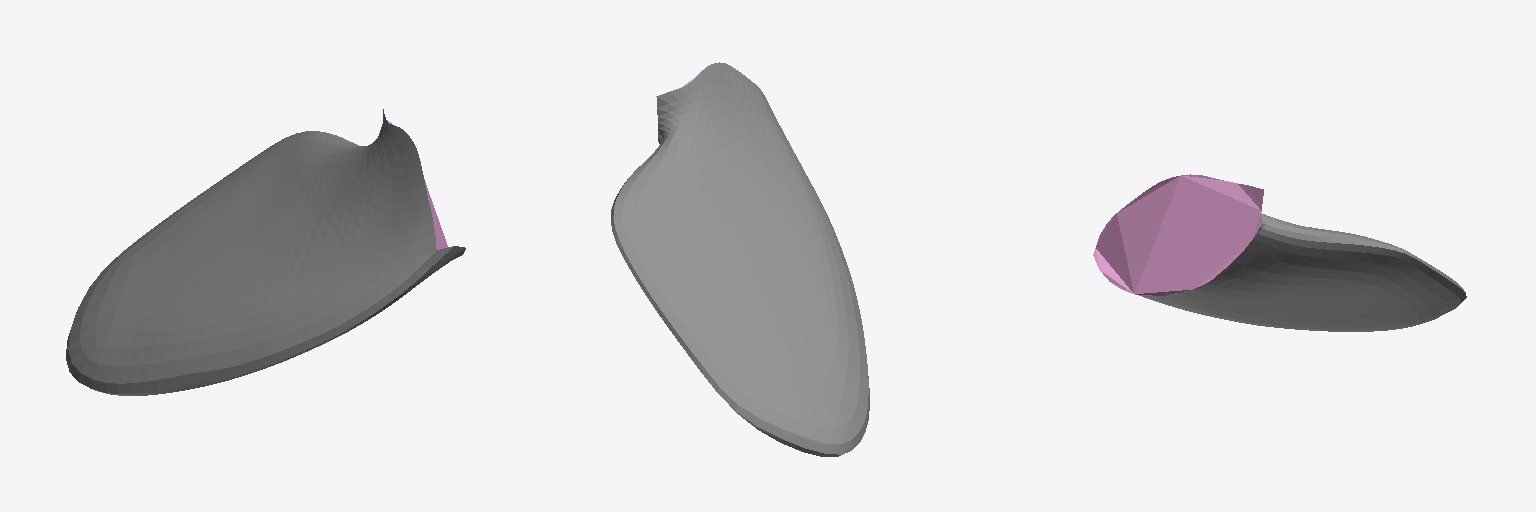
Rendered from AletaDerOrca.obj.
3 views of the same model, side by side, from view 1: azimuth 30°, elevation 25°; view 2: azimuth 150°, elevation 25°; view 3: azimuth 270°, elevation 25° (orthographic).
Visible parts, largest first — view 1: AletaDer; view 2: AletaDer; view 3: AletaDer.
Part boxes in pixels (bbox=[...]): AletaDer: bbox=[66, 109, 465, 395]; AletaDer: bbox=[611, 62, 869, 456]; AletaDer: bbox=[1093, 174, 1466, 331].
Bounding box in the file's own units: 7.71 × 7.45 × 9.54.